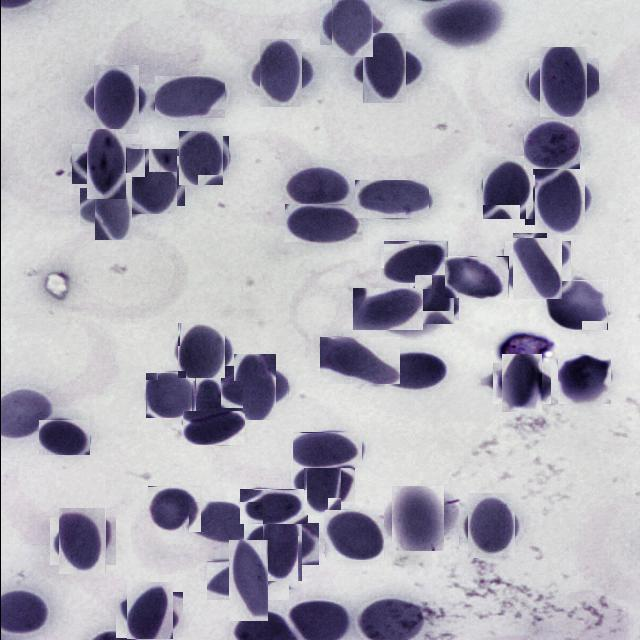red blood cell: (319, 338, 399, 386), (529, 170, 589, 230), (217, 550, 277, 610), (388, 488, 446, 548), (534, 52, 592, 111), (86, 71, 144, 129), (478, 158, 536, 216), (252, 515, 310, 573), (122, 152, 180, 210), (508, 237, 566, 294), (188, 502, 262, 546), (54, 513, 110, 570), (281, 597, 355, 640), (462, 498, 518, 554), (356, 40, 412, 96), (78, 136, 134, 192), (545, 280, 607, 330), (252, 46, 308, 101), (154, 75, 225, 118), (121, 586, 177, 640), (226, 360, 281, 414), (284, 204, 362, 242), (324, 510, 383, 560), (352, 288, 422, 330), (380, 240, 448, 283), (277, 164, 350, 204), (354, 180, 428, 218), (86, 181, 138, 233), (174, 325, 227, 376), (444, 256, 508, 298), (523, 121, 579, 169), (325, 0, 378, 50), (296, 458, 348, 508), (557, 355, 610, 404), (292, 432, 362, 468), (176, 134, 226, 184), (382, 352, 445, 391), (496, 359, 546, 408), (147, 486, 200, 532), (239, 489, 307, 524), (145, 372, 195, 418), (182, 411, 244, 445), (191, 381, 242, 422), (412, 278, 456, 322), (38, 419, 90, 455)
